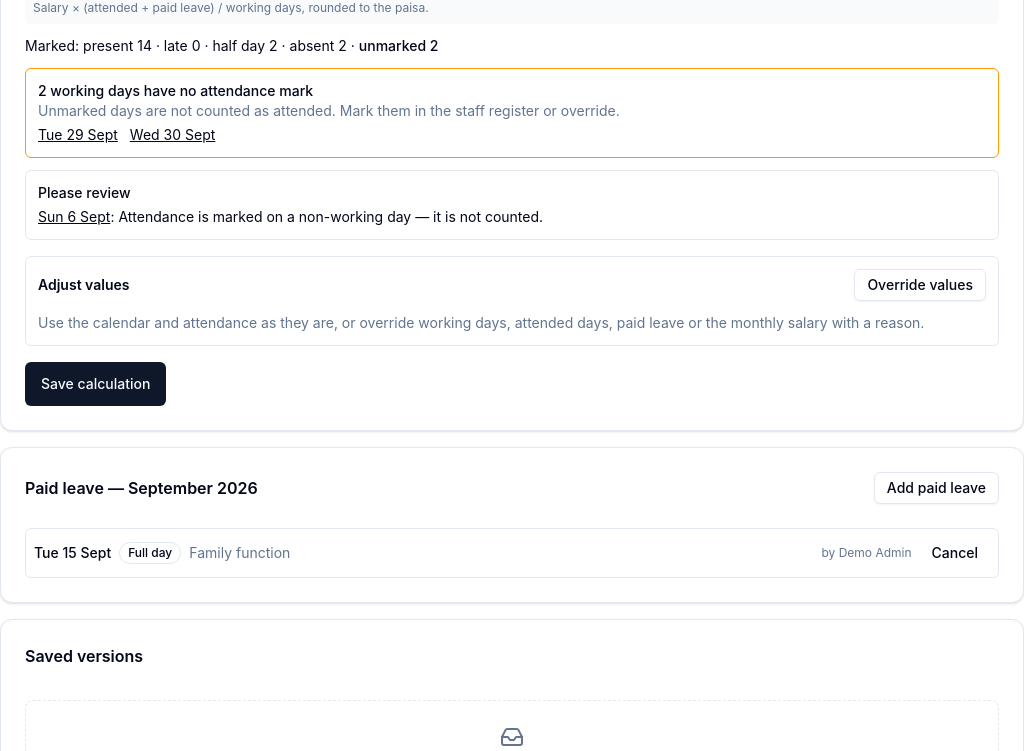
Test case: salary calculator (manager) › the server's field error is shown under that field
(page scrolled)
Click the button "Save calculation".
click(96, 384)  # box [25,362,166,406]
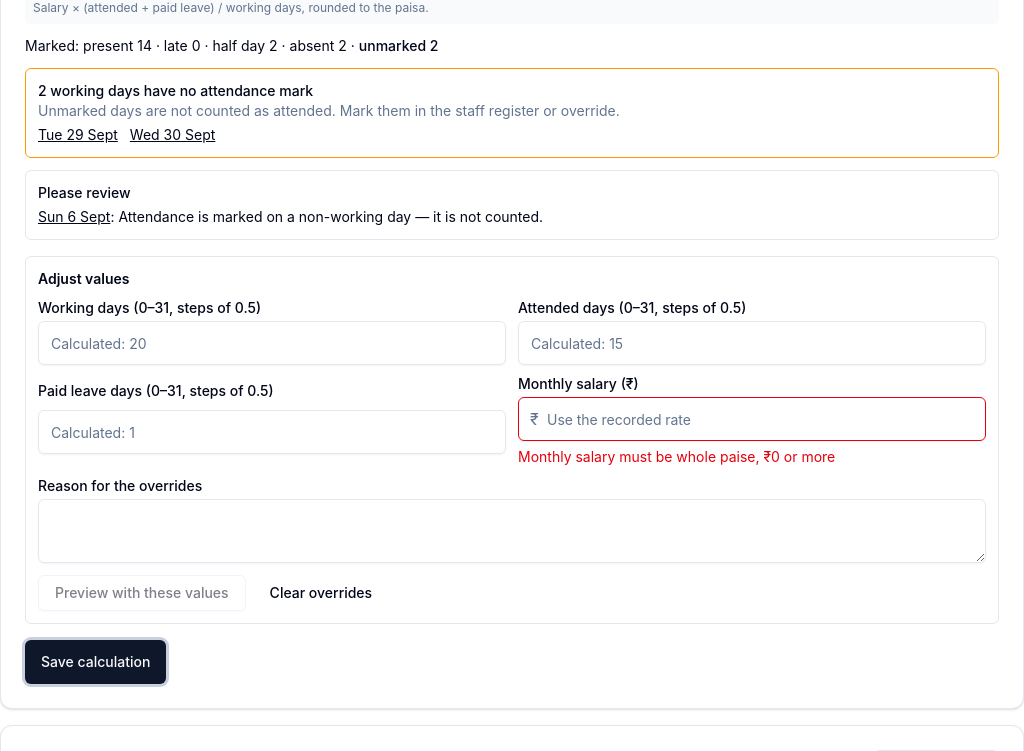
Expected: the text "Monthly salary must be whole paise, ₹0 or more" is shown, [518,448,835,465]
